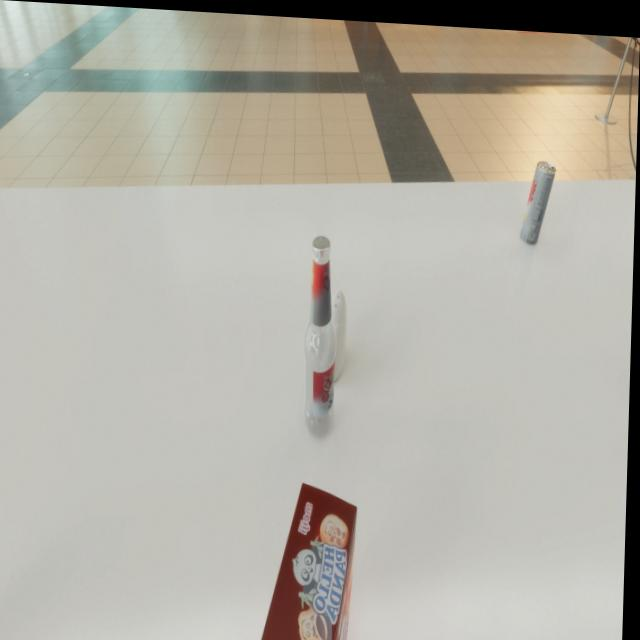Bottle: (303, 231, 341, 434)
HelloPanda: (260, 476, 361, 640)
Rita_zero_sugar: (521, 153, 557, 239)
Salt: (322, 285, 350, 379)
